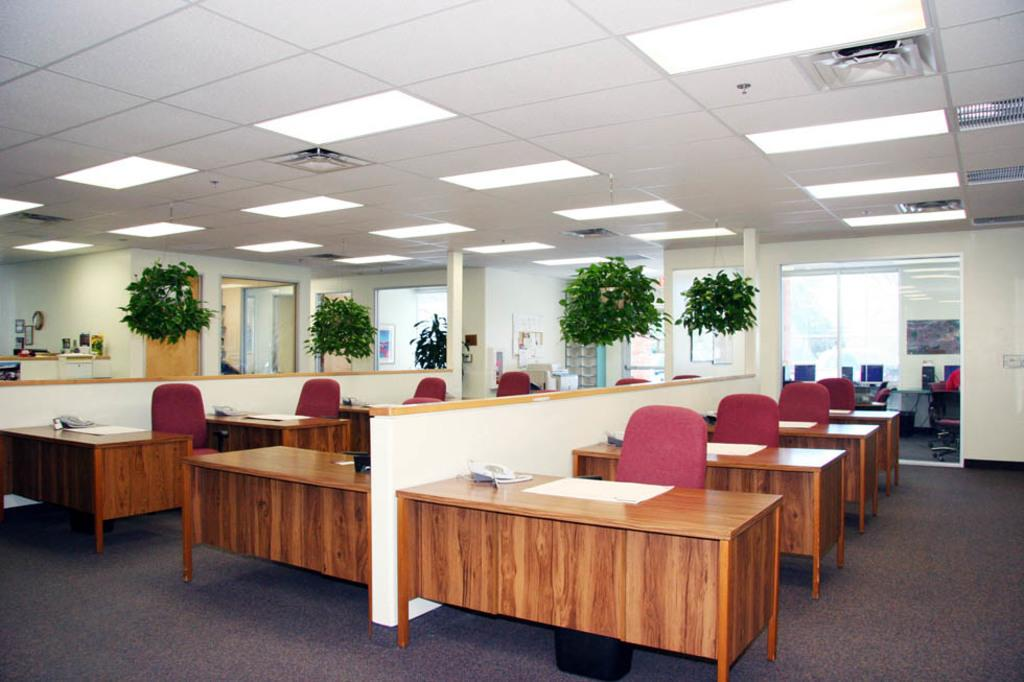Chair: (614, 403, 708, 489), (149, 379, 229, 461), (709, 394, 784, 447), (776, 380, 833, 423), (926, 382, 958, 451), (298, 378, 339, 418), (815, 378, 858, 413), (495, 370, 530, 398), (413, 374, 446, 397), (610, 374, 648, 389), (674, 369, 697, 382), (877, 380, 887, 405), (402, 397, 440, 403)
